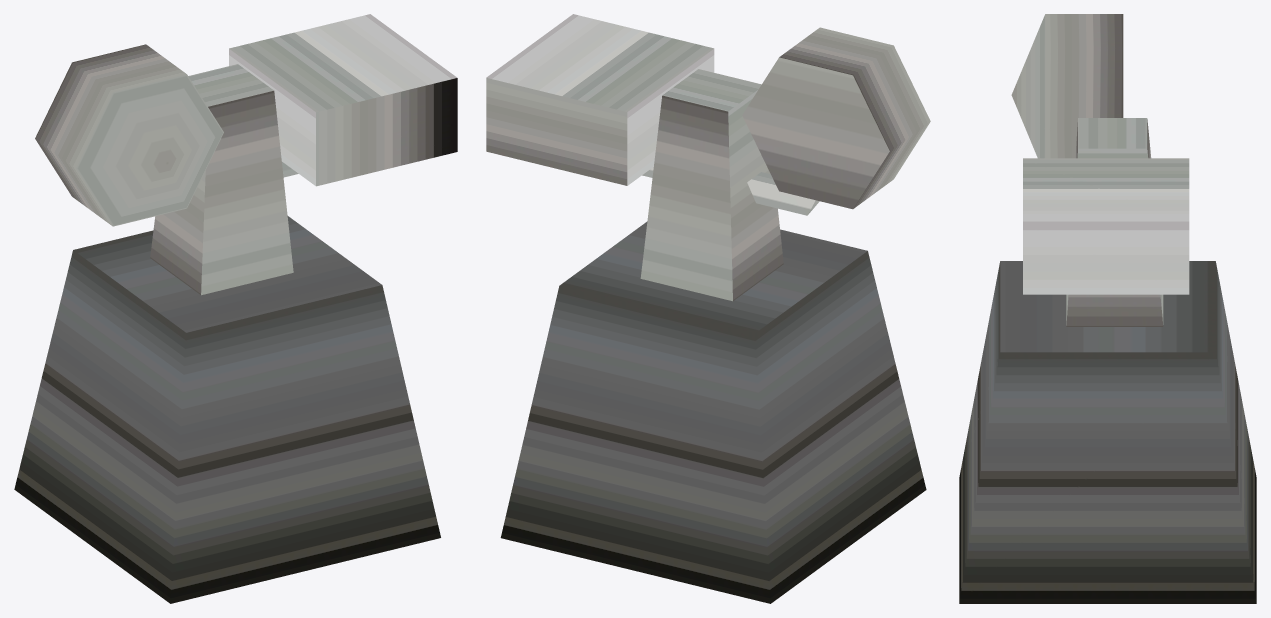
File: srmturret_hdtex.glb
3 views of the same model, side by side, from view 1: azimuth 30°, elevation 25°; view 2: azimuth 150°, elevation 25°; view 3: azimuth 270°, elevation 25° (orthographic). The views are drawn at different scales.
Visible parts, largest first — view 1: Base, Turret; view 2: Base, Turret; view 3: Base, Turret.
Boxes of the visible parts, x1,y1,x2,y2 form: Base: (14,216,440,603); Turret: (35,14,457,295); Base: (500,221,926,603); Turret: (486,14,930,301); Base: (959,261,1256,603); Turret: (1011,14,1189,326).
Bounding box in the file's own units: 6.29 × 7.82 × 4.6.
Materials: 2 (2 with a texture image).
